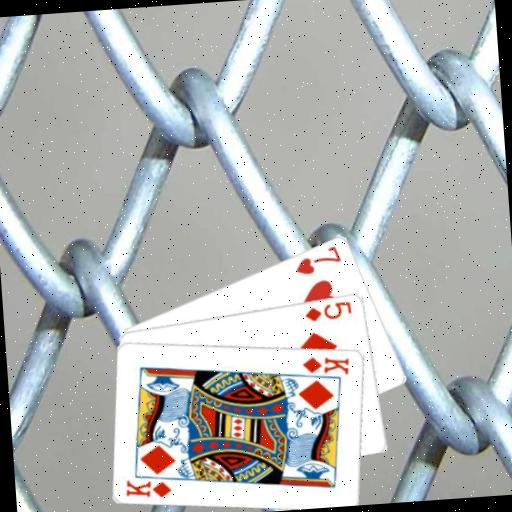5D: (302, 297, 354, 324)
7H: (291, 242, 344, 277)
KD: (299, 351, 353, 380), (122, 474, 174, 502)
